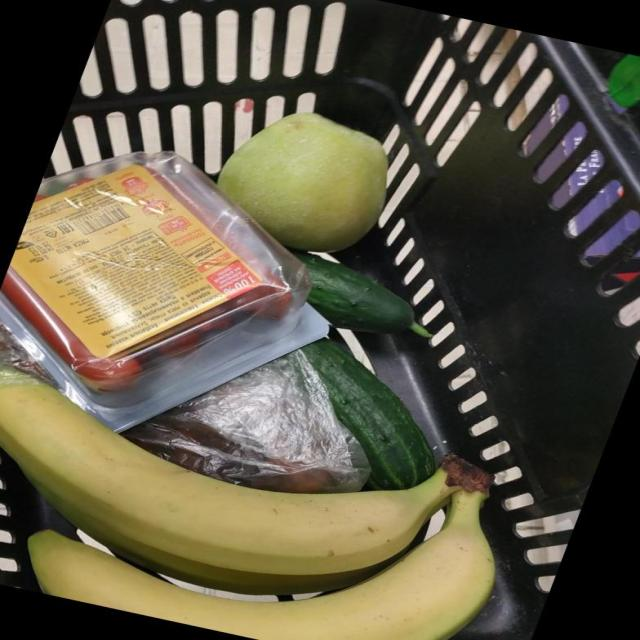Apple: (216, 111, 387, 250)
Banana: (0, 365, 490, 594), (27, 487, 494, 640)
Cucumber: (300, 338, 434, 489), (291, 250, 414, 332)
Sausages: (0, 150, 326, 430)
